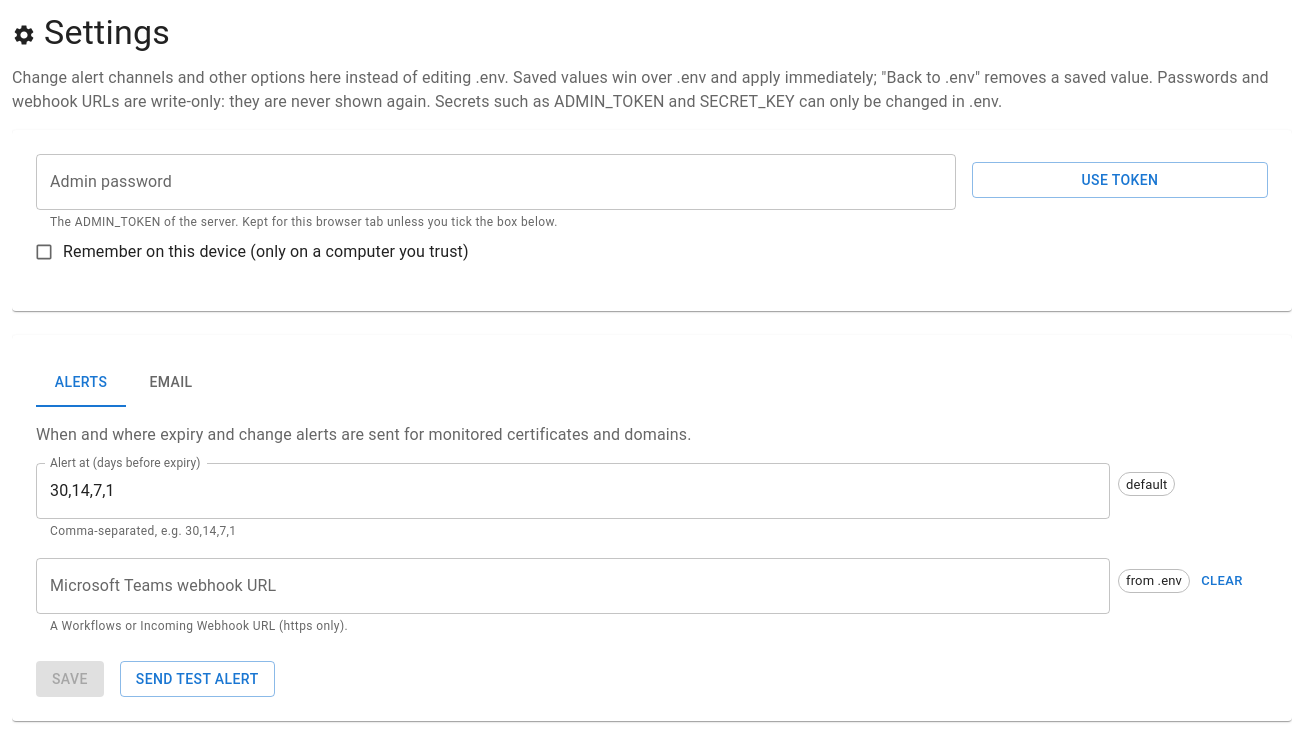
Scenario: switches between groups
Step 1. Click the tab "Email" → (171, 383), box [126,359,216,407]
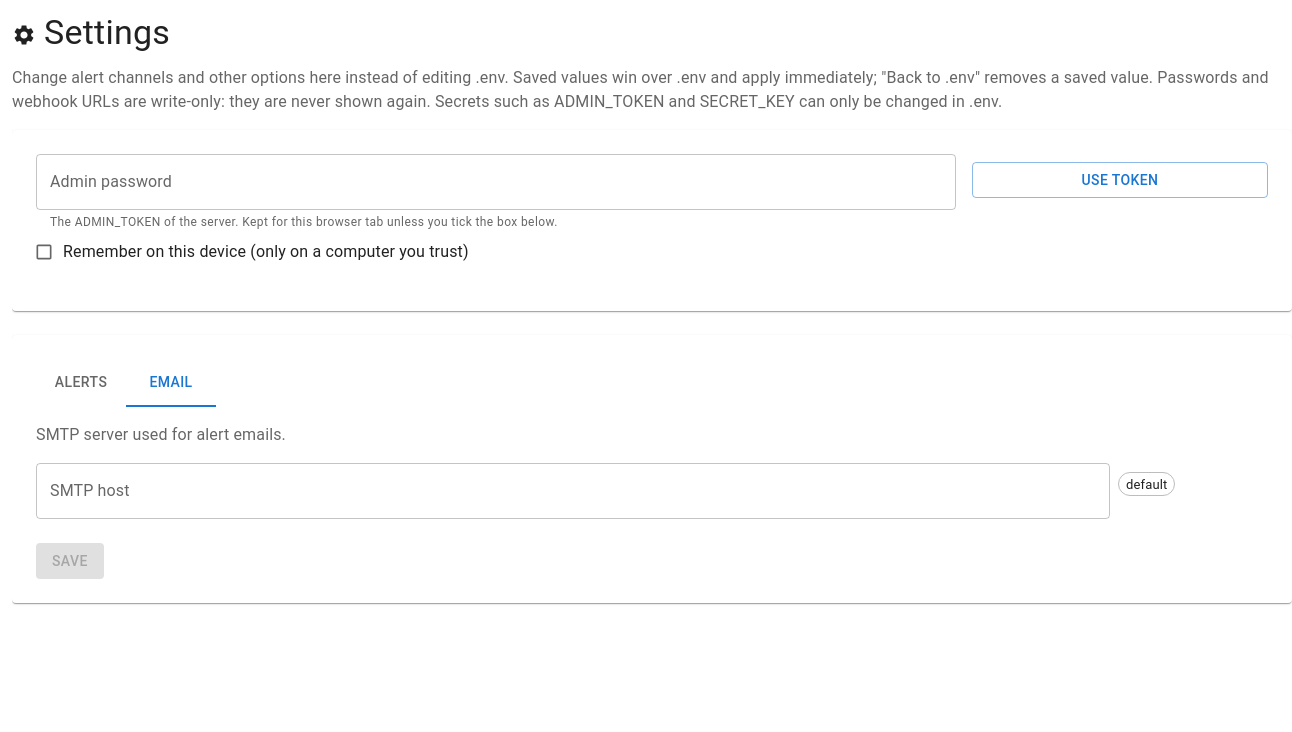
Now the field labelled "SMTP host" is shown, box [36,463,1110,519]
